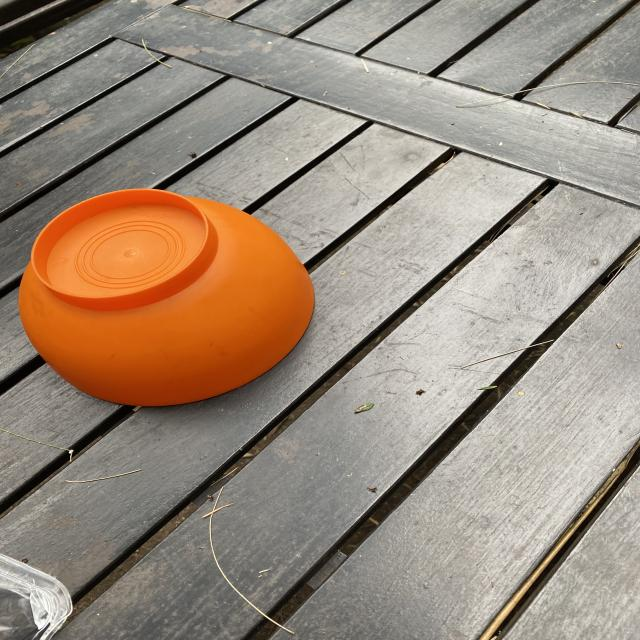bowl: (18, 188, 313, 408)
